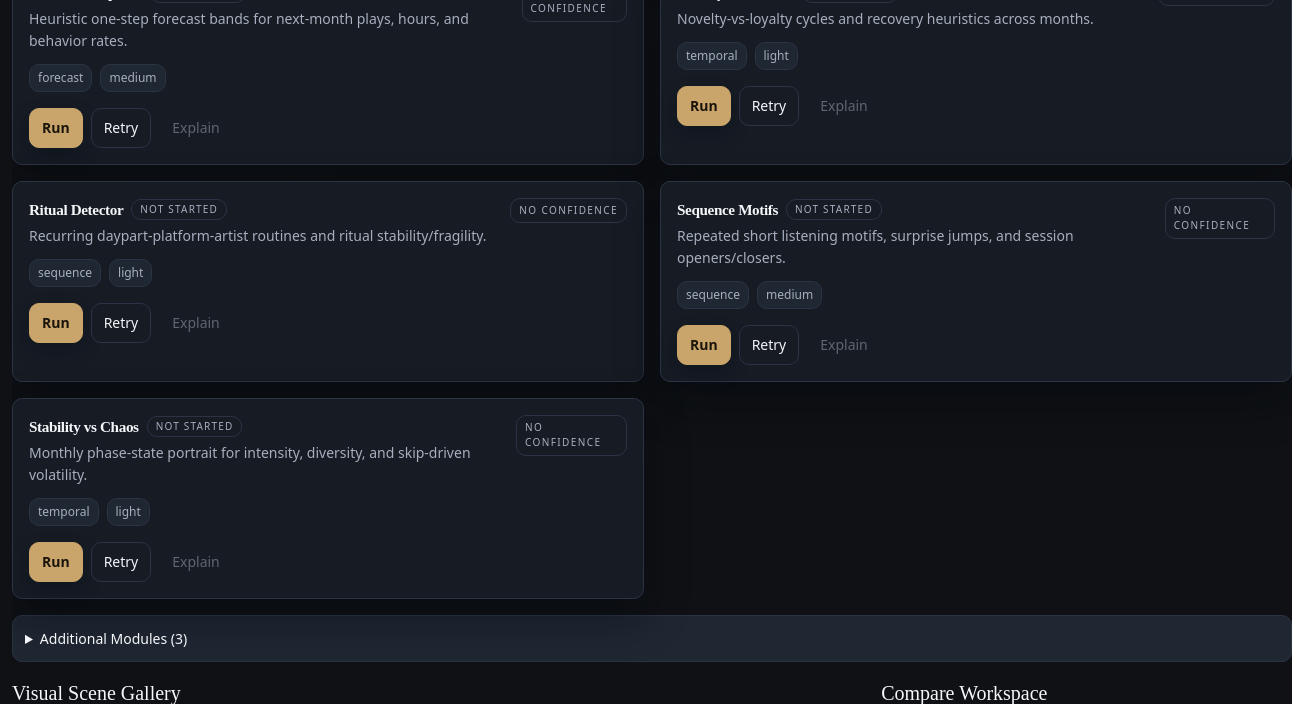
Test: LabWorkbench › renders Xenolab sections and can run a module to populate explainability
(page scrolled)
Expected: the text "Sequence Motifs" is shown, [677,201,778,218]
Step 1. Click the button "Run" below "Sequence Motifs" → (704, 345), box [677,325,731,365]
(page scrolled)
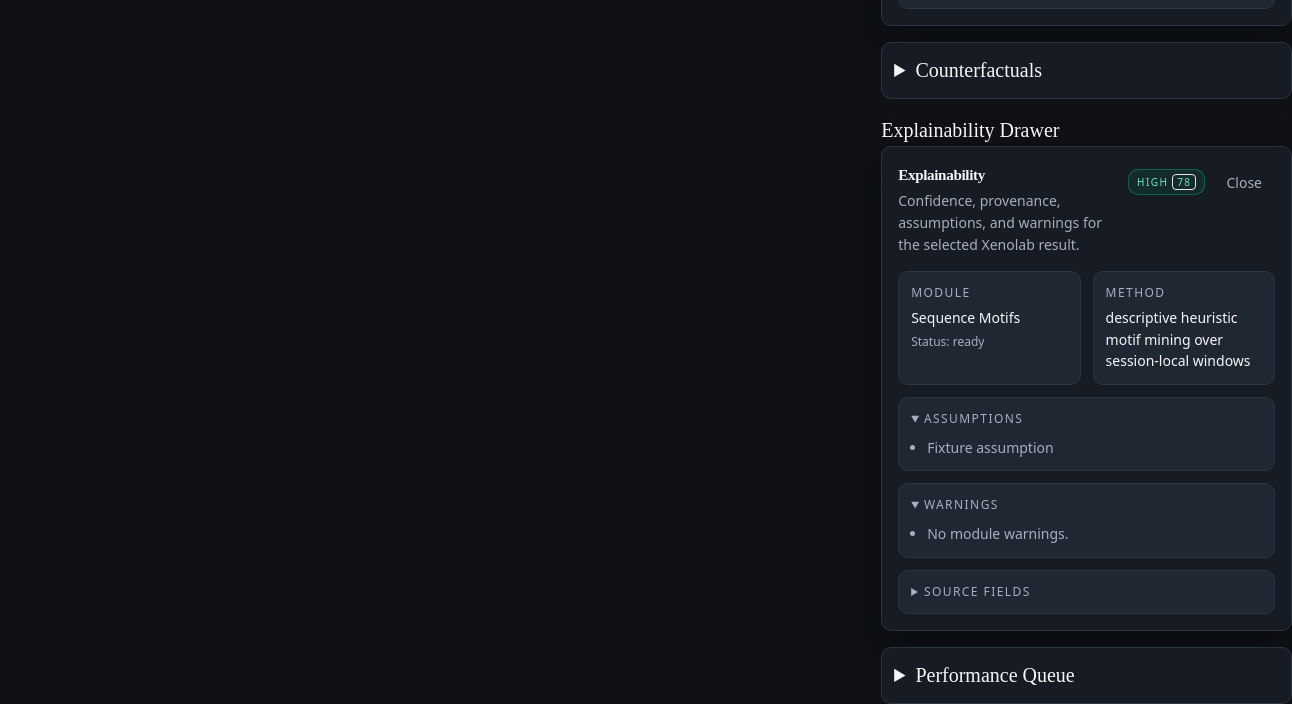
Result: the text "descriptive heuristic motif mining" is shown at [1106,308,1251,370]
Result: the list item "Fixture assumption" is shown at [927,438,1054,456]
